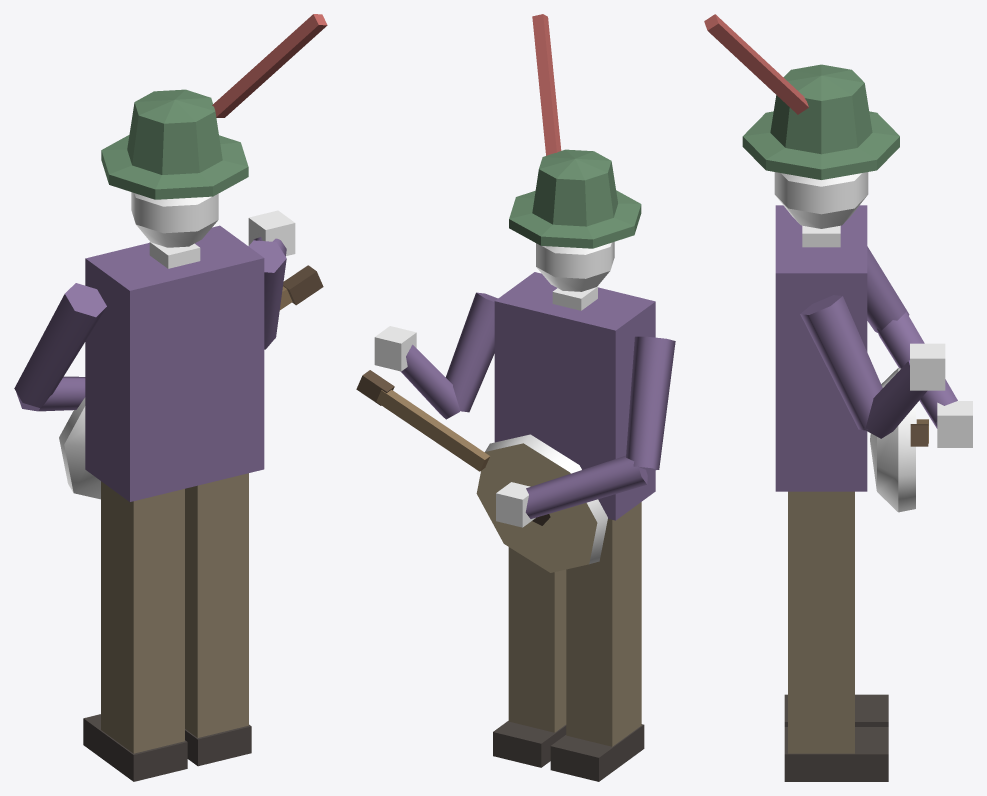
Rendered from bard.glb.
3 views of the same model, side by side, from view 1: azimuth 30°, elevation 25°; view 2: azimuth 150°, elevation 25°; view 3: azimuth 270°, elevation 25° (orthographic). The views are drawn at different scales.
Parts seen in each view (by area): view 1: Body, Head; view 2: Body, Head; view 3: Body, Head.
Part boxes in pixels (left/top/right/bottom): Body: left=14, top=210, right=323, bottom=781; Head: left=101, top=14, right=327, bottom=247; Body: left=356, top=272, right=675, bottom=781; Head: left=509, top=14, right=641, bottom=291; Body: left=775, top=205, right=972, bottom=781; Head: left=704, top=14, right=899, bottom=228.
Bounding box in the file's own units: 0.9545 × 2.19 × 0.6835.
